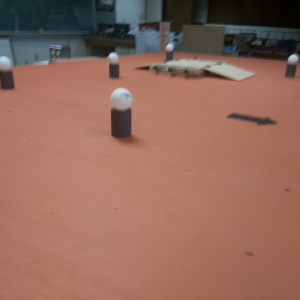corner: (159, 20, 171, 43)
obstacle: (111, 86, 134, 139), (1, 56, 15, 90), (106, 52, 121, 79), (283, 53, 297, 78), (164, 45, 175, 59)
side: (150, 64, 197, 79)
slope: (205, 62, 254, 83)
start: (221, 109, 278, 127)
